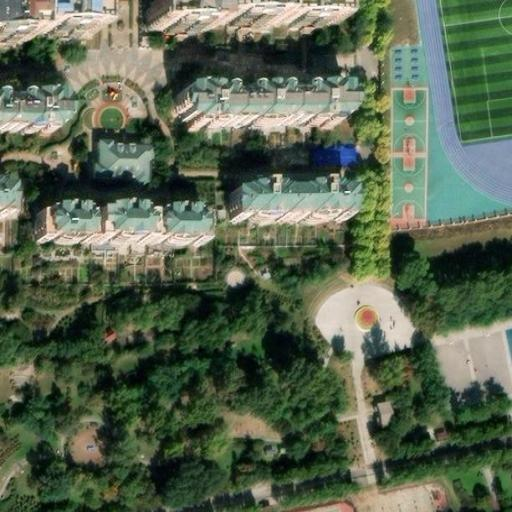building: (183, 91, 353, 132), (35, 212, 205, 246), (151, 0, 341, 28), (228, 188, 352, 222), (0, 4, 104, 39), (0, 92, 72, 128), (95, 142, 152, 183), (309, 141, 356, 166), (283, 498, 355, 512), (373, 397, 396, 429), (0, 180, 18, 218)
